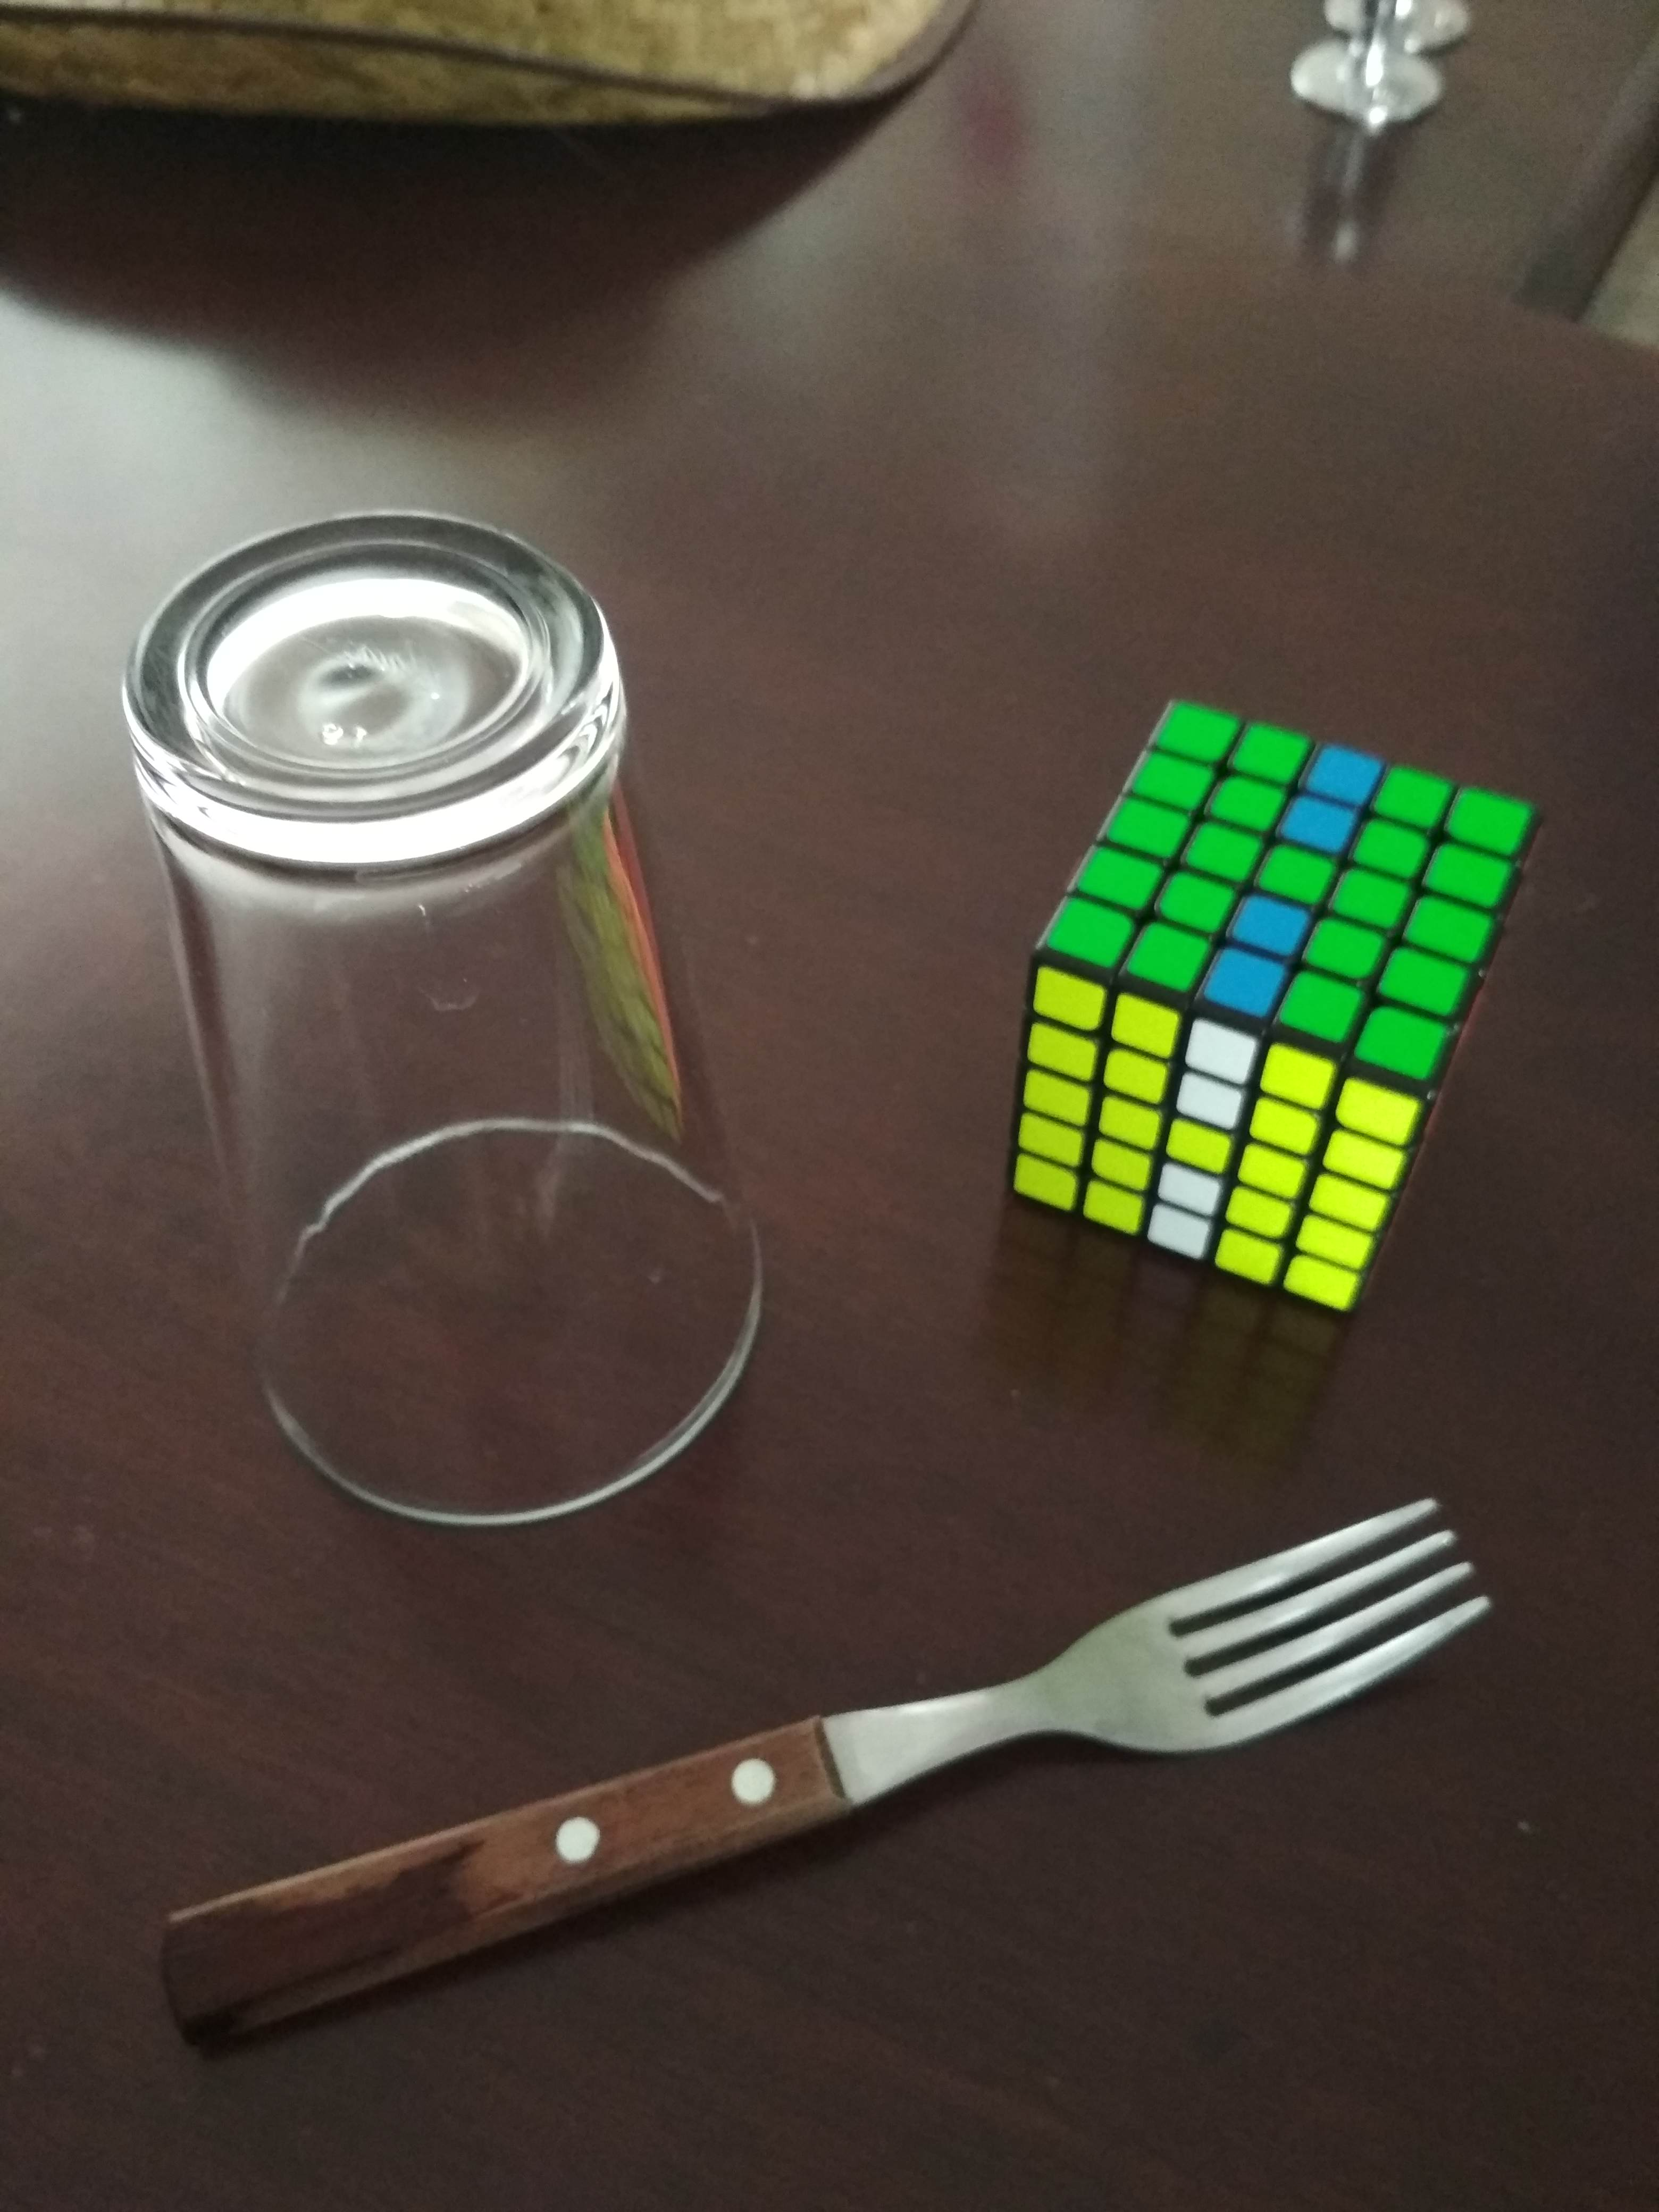fork: (139, 1480, 1527, 2074)
glass: (98, 484, 789, 1555)
rubik_cube: (972, 657, 1560, 1357)
